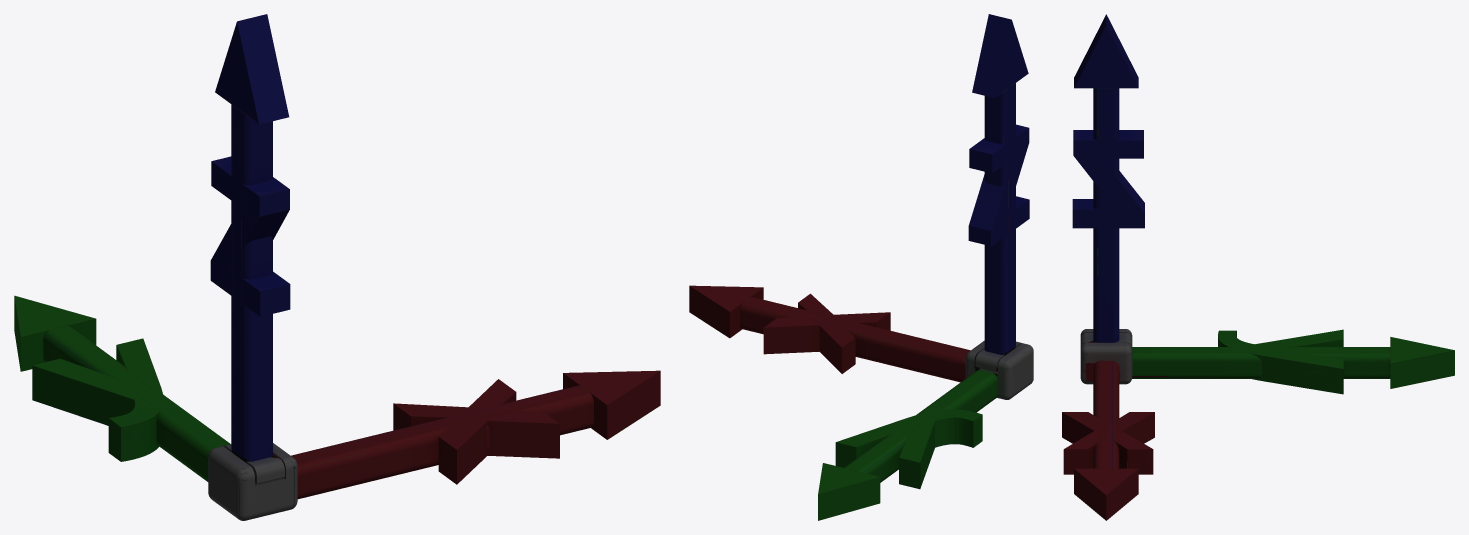
File: coordinates.gltf
3 renders of one model, left to right at view 1: azimuth 30°, elevation 25°; view 2: azimuth 150°, elevation 25°; view 3: azimuth 270°, elevation 25°, orthographic. The views are drawn at different scales.
Visible parts, largest first — view 1: right_hand_system_assembled; view 2: right_hand_system_assembled; view 3: right_hand_system_assembled.
Part boxes in pixels (x1,y1,x2,y2): right_hand_system_assembled: (14,14,660,520); right_hand_system_assembled: (689,14,1033,520); right_hand_system_assembled: (1062,14,1454,520).
Bounding box in the file's own units: 1 × 1 × 1.
Materials: 1 (1 with a texture image).
